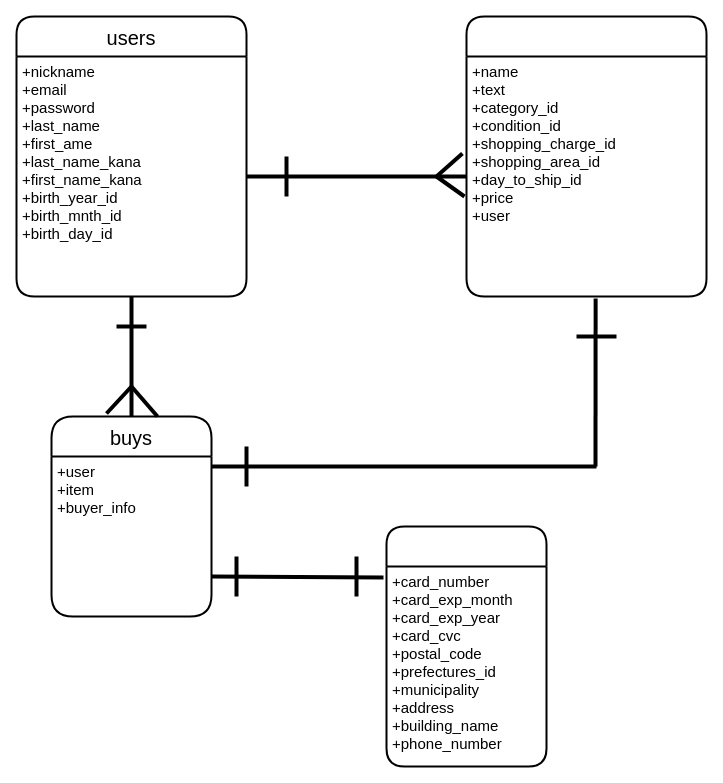
Image size: 723x783. Some labels were removed from this diagram. Here are the shapes that lost their labels. From the top down, the box of each, then its label:
(465, 15, 707, 297): items
(385, 525, 547, 767): buyer_info
